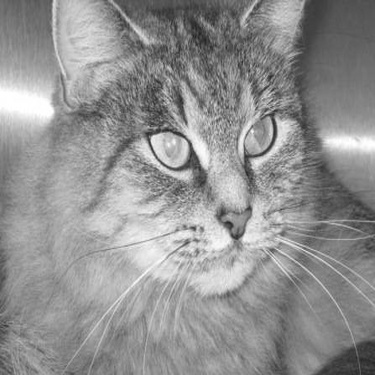cat: (19, 1, 352, 360)
